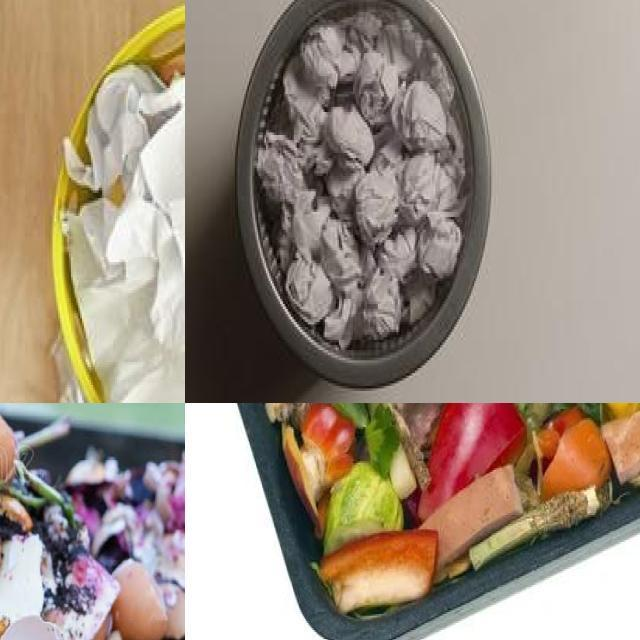Garbage: (255, 403, 640, 634), (32, 20, 185, 403), (0, 413, 185, 640)
Paper: (256, 6, 465, 351), (62, 63, 185, 403)
top_view_waste: (251, 0, 471, 347)
